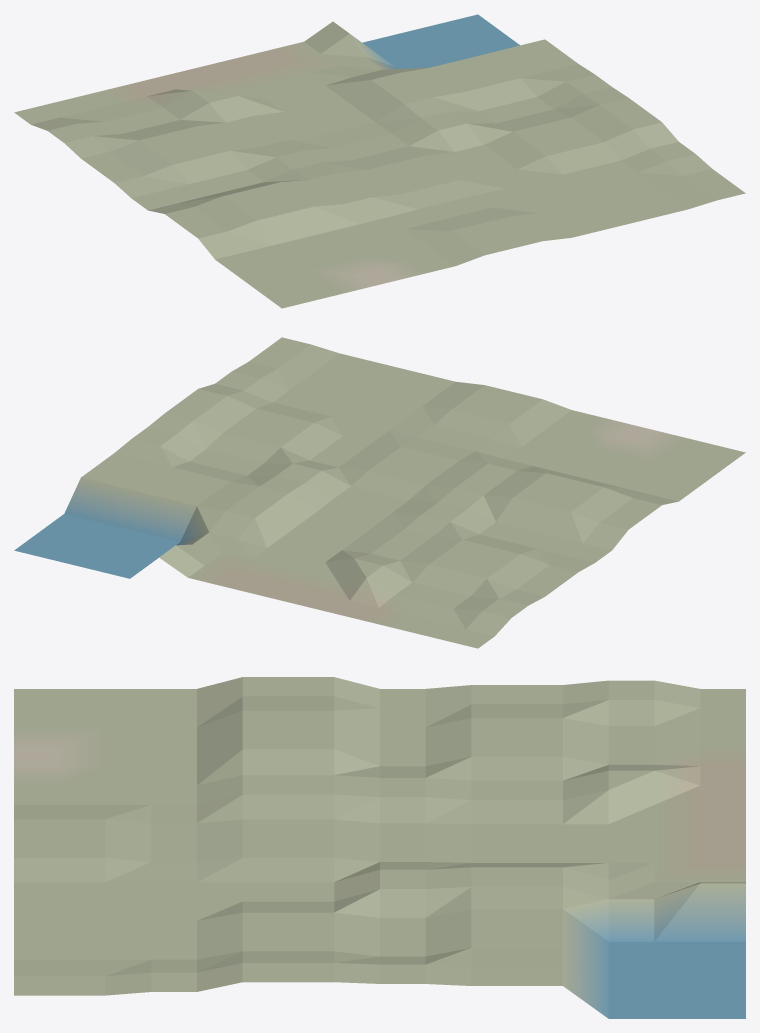
3 renders of one model, top to bottom at view 1: azimuth 30°, elevation 25°; view 2: azimuth 150°, elevation 25°; view 3: azimuth 270°, elevation 25°, orthographic. The views are drawn at different scales.
Size of the model in its own units: 32 by 1.87 by 32.
